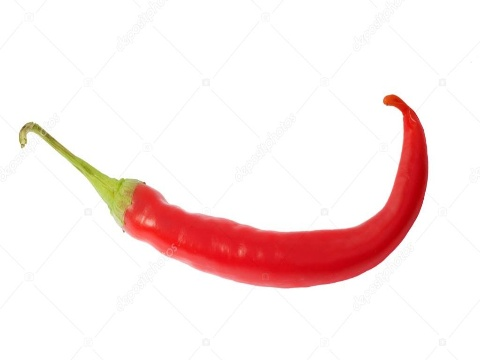Chilli: (11, 89, 466, 295)
